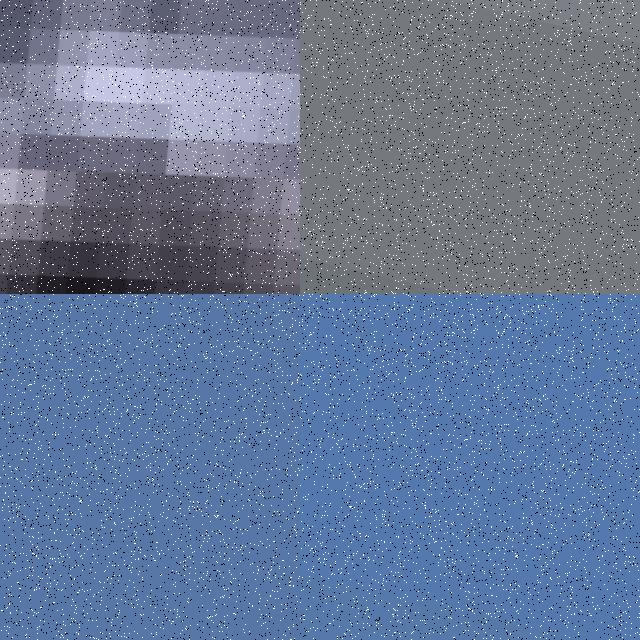drone: (0, 0, 300, 294)
